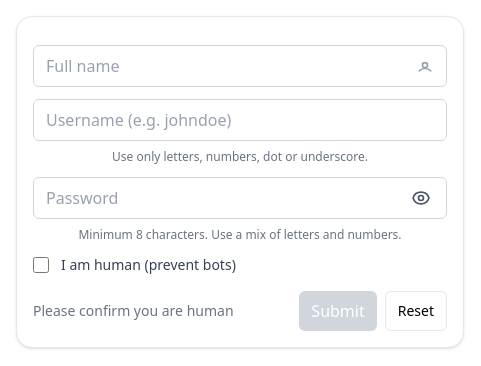
Test case: InputField (Form Component) › resets all fields when reset button is clicked
// Populate fields
In the field with placeholder "Full name": (240, 66) [33,45,447,87], type "John Doe"
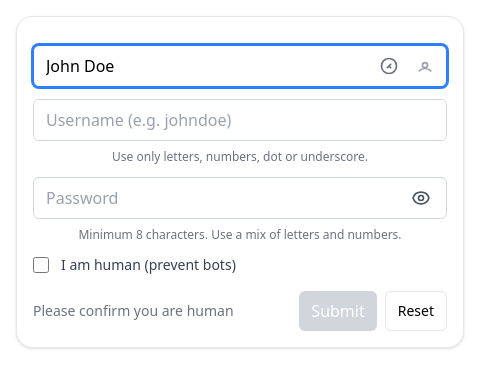
In the field with placeholder "Username (e.g. johndoe)": (240, 120) [33,99,447,141], type "johndoe"
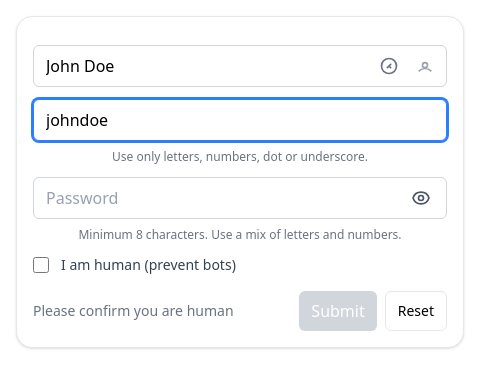
In the password field with placeholder "Password": (240, 198) [33,177,447,219], type "password"
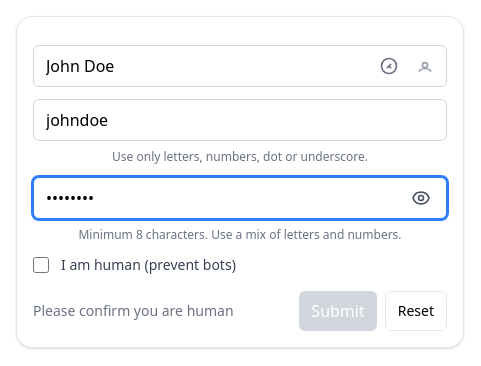
Click the checkbox: (41, 265) [33,257,49,273]
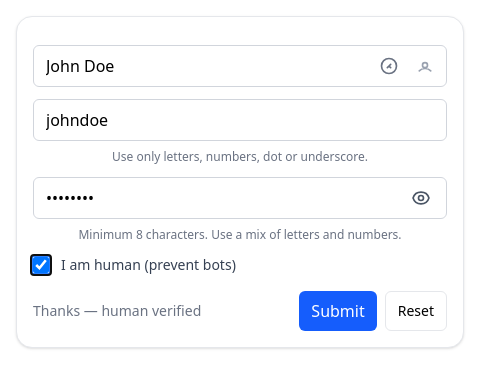
Now the checkbox is checked, box [33,257,49,273]
Click the button "Reset": (416, 311) [385,291,447,331]
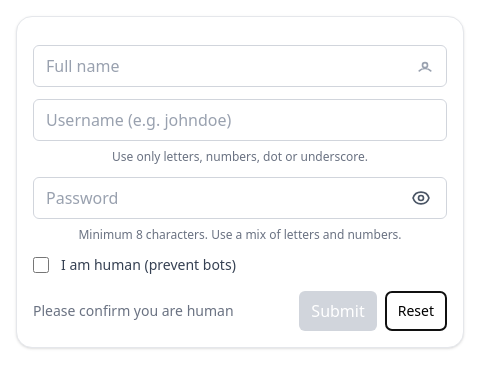
Now the field with placeholder "Full name" is empty, box [33,45,447,87]
Now the field with placeholder "Username (e.g. johndoe)" is empty, box [33,99,447,141]
Now the password field with placeholder "Password" is empty, box [33,177,447,219]
